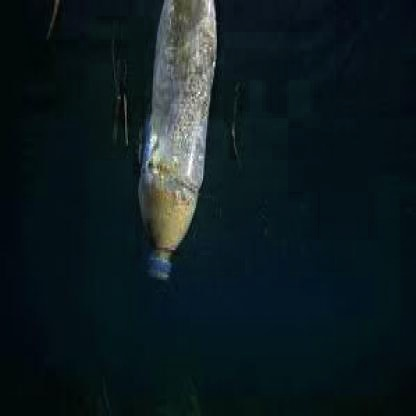pbottle: (122, 2, 227, 289)
